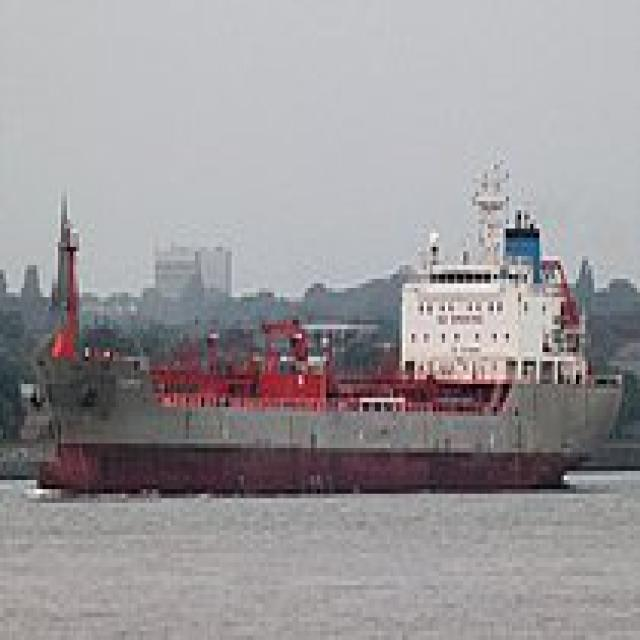Tanker: (36, 151, 624, 498)
